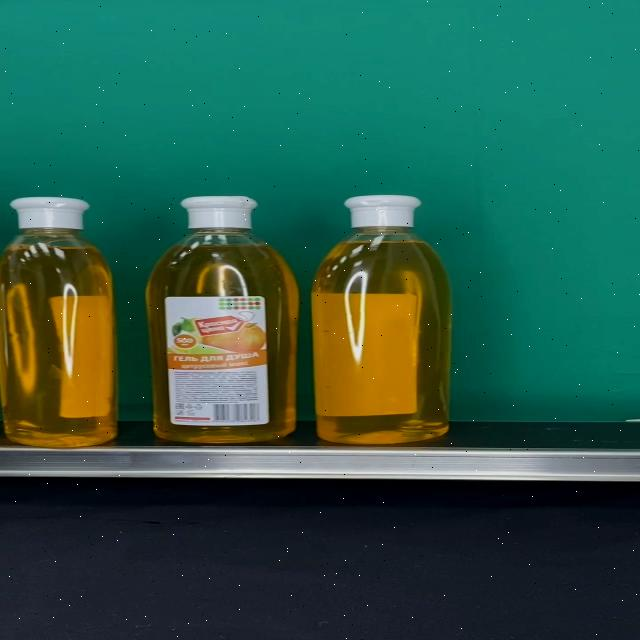Bottle: (145, 195, 300, 442), (311, 195, 452, 444), (0, 196, 117, 448)
Cap: (343, 195, 422, 229), (10, 197, 90, 230), (182, 196, 262, 229)
